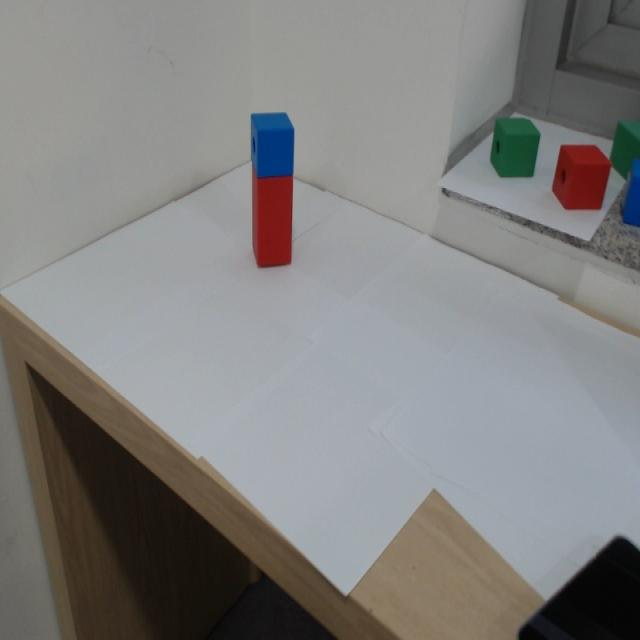cube: (249, 101, 300, 175)
